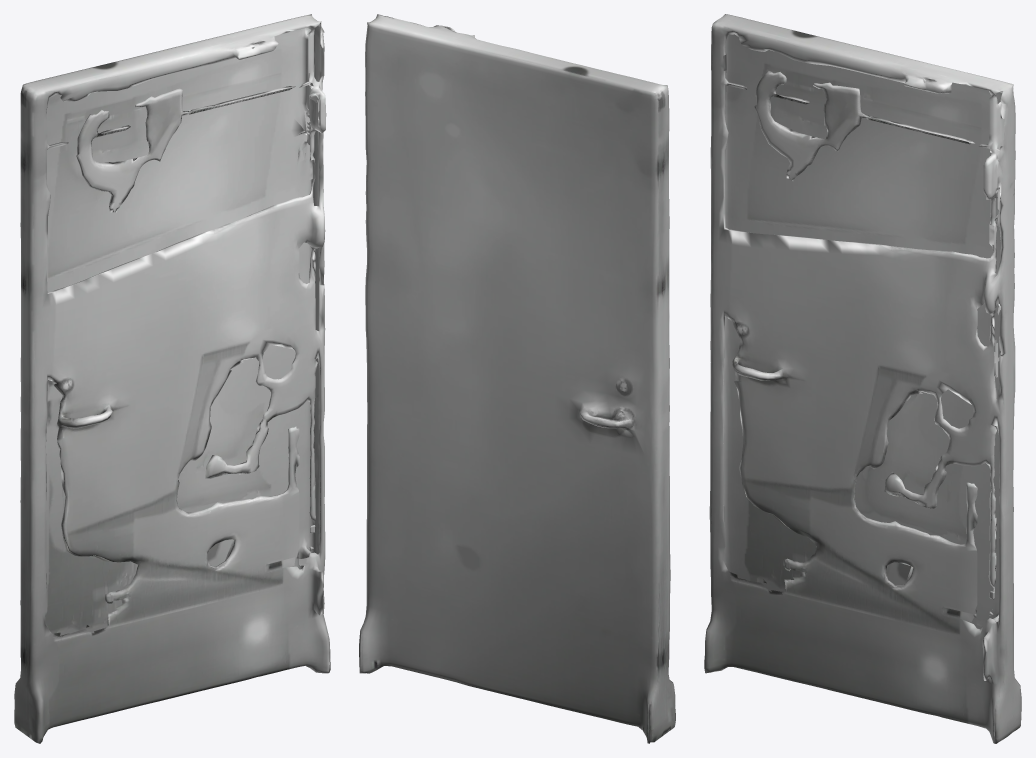
File: Meshy_AI_Metal_Entry_Door_0518135254_texture.fbx
The picture shows the model from 3 angles, left to right: view 1: azimuth 30°, elevation 25°; view 2: azimuth 150°, elevation 25°; view 3: azimuth 330°, elevation 25°; orthographic projection.
Visible parts, largest first — view 1: Mesh_0; view 2: Mesh_0; view 3: Mesh_0.
Part boxes in pixels (x1,y1,x2,y2): Mesh_0: [14, 14, 330, 743]; Mesh_0: [359, 14, 675, 743]; Mesh_0: [704, 14, 1021, 743].
Bounding box in the file's own units: 91.17 × 192 × 18.11.
Materials: 1 (1 with a texture image).
